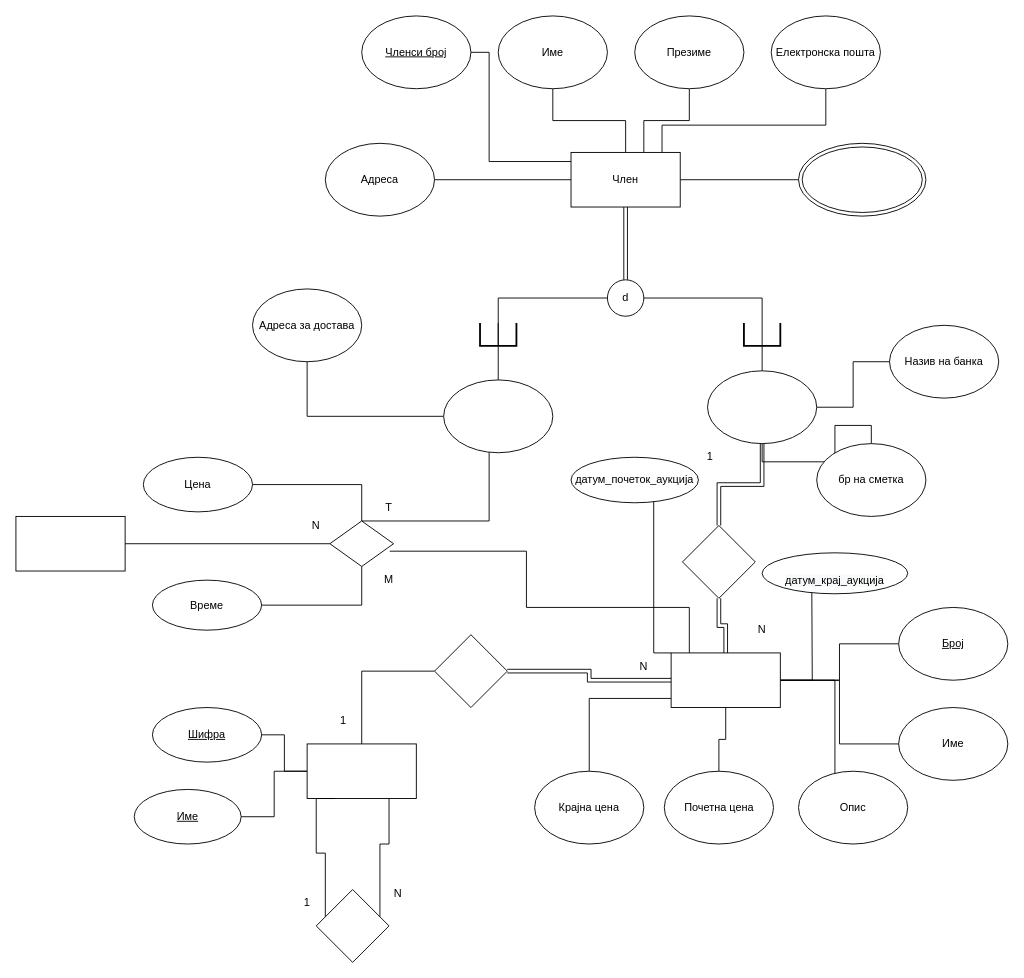
Some shapes in this 1024 by 978 pixel diagram are drawn without their labels. Here are the shapes that lost their labels. From the top down, the box of each, then its label:
(798, 142, 926, 216): тел. број
(443, 379, 553, 453): Купувач
(707, 370, 817, 444): Продавач
(15, 516, 125, 571): Понуда
(670, 652, 780, 708): Предмет
(306, 743, 416, 799): Подкатегорија
